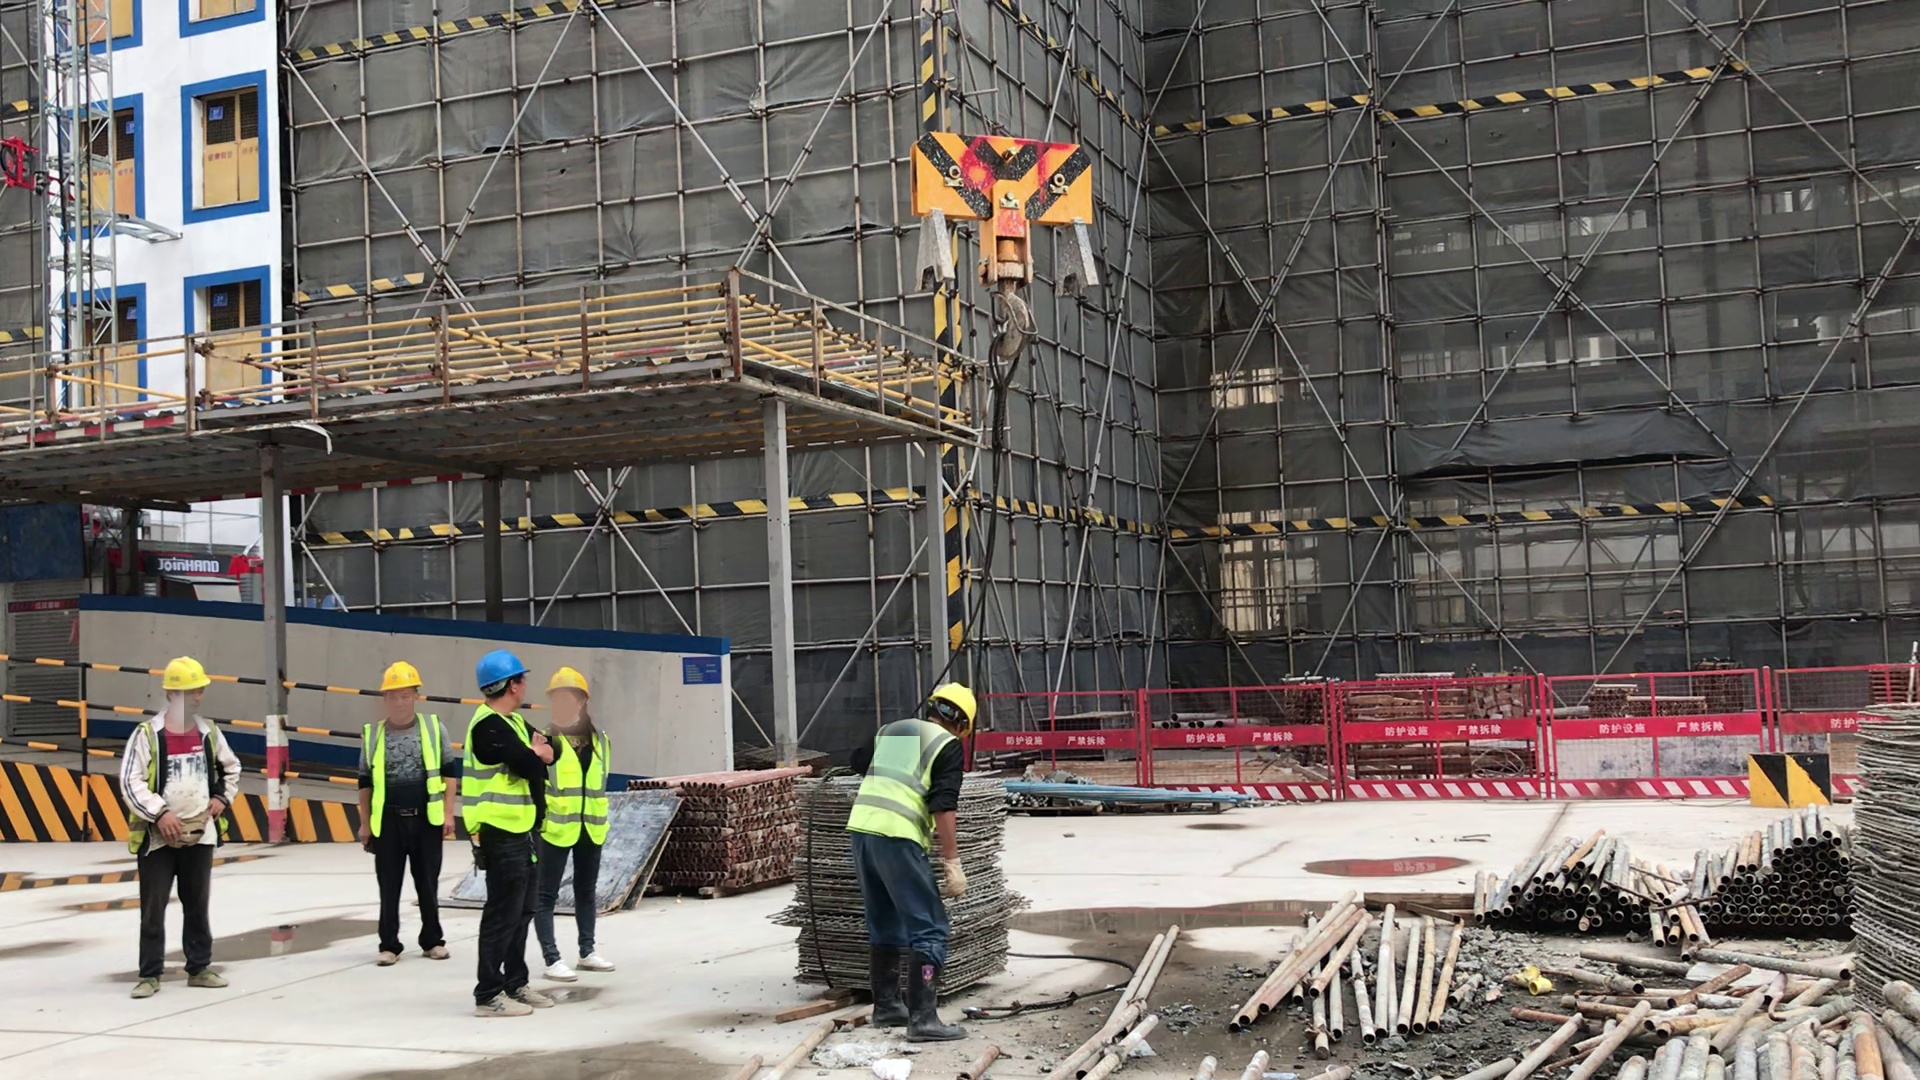helmet: (934, 681, 976, 737), (477, 651, 531, 689), (163, 660, 211, 694), (380, 664, 422, 694), (545, 670, 589, 696)
person: (850, 680, 973, 1039), (123, 657, 229, 1001), (469, 653, 551, 1020), (361, 664, 451, 965), (540, 668, 617, 984)
vest: (363, 715, 452, 833), (854, 727, 944, 845), (461, 714, 538, 829), (543, 741, 605, 849)
